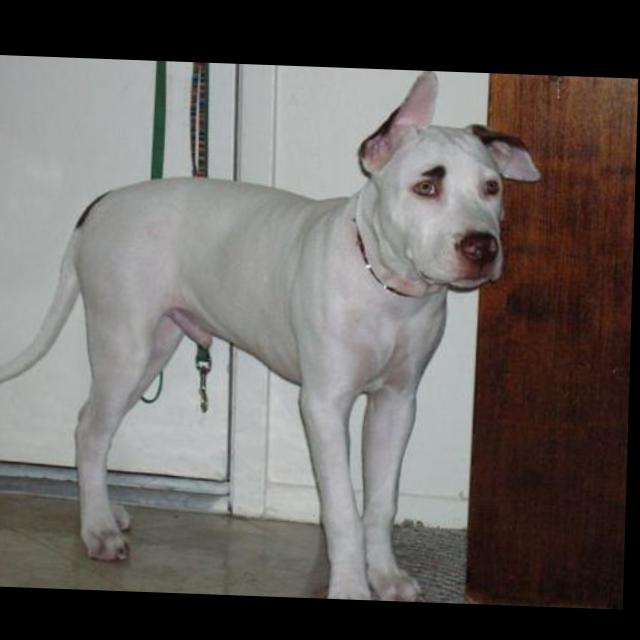amstaff: (1, 56, 546, 602)
